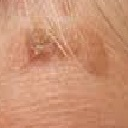Carcinoma: (24, 27, 66, 61)
